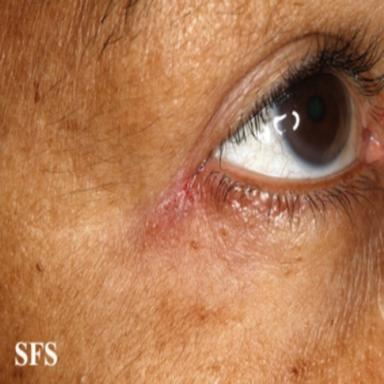Hailey-Hailey-Disease: (139, 174, 205, 235)
